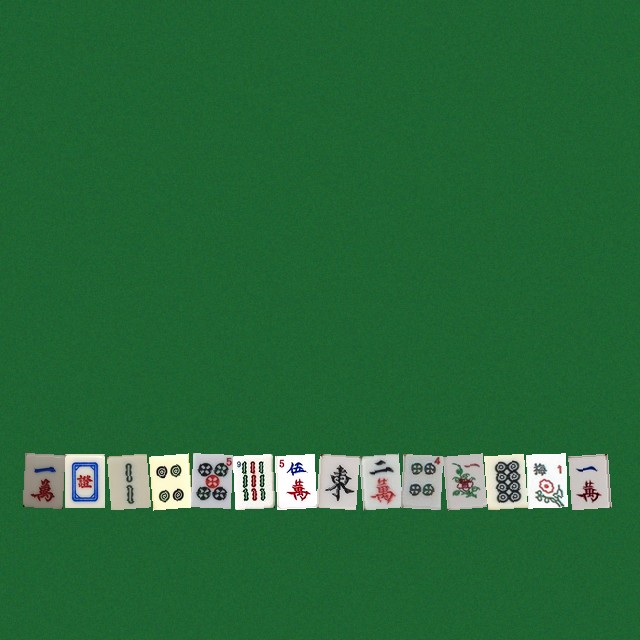tile: (22, 453, 62, 507), (64, 453, 104, 507), (106, 453, 146, 507), (148, 453, 188, 507), (190, 453, 230, 507), (232, 453, 272, 507), (274, 453, 314, 507), (316, 453, 356, 507), (358, 453, 398, 507), (400, 453, 440, 507), (442, 453, 482, 507), (484, 453, 524, 507), (526, 453, 566, 507), (568, 453, 608, 507)
